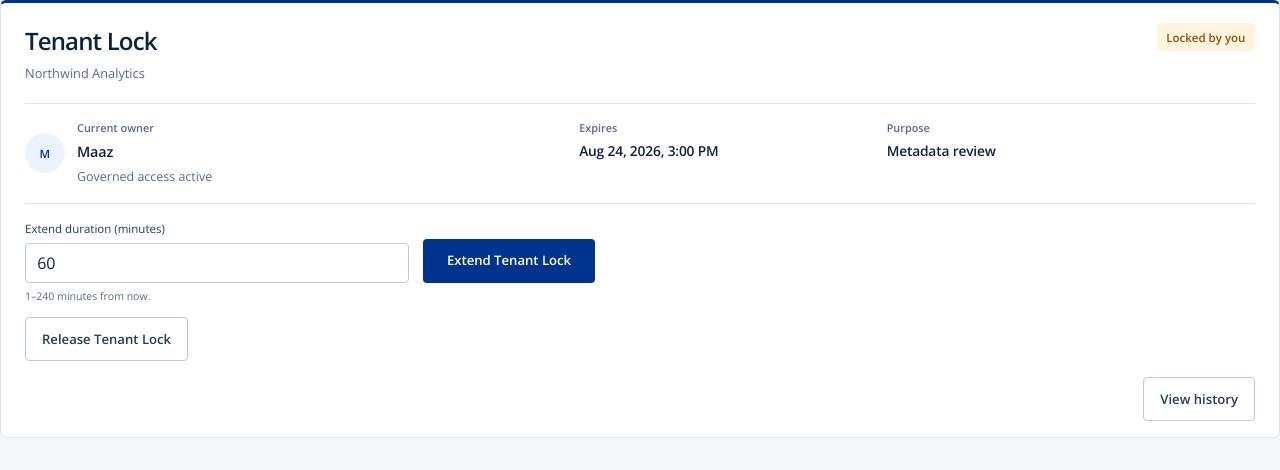
Scenario: Tenant Lock release › releases only after explicit confirmation and refetches server-owned state
expect the text "Locked by you" is shown: met, box [1157,23,1255,52]
Click the button "Release Tenant Lock" at [106, 339], box [25,317,188,361]
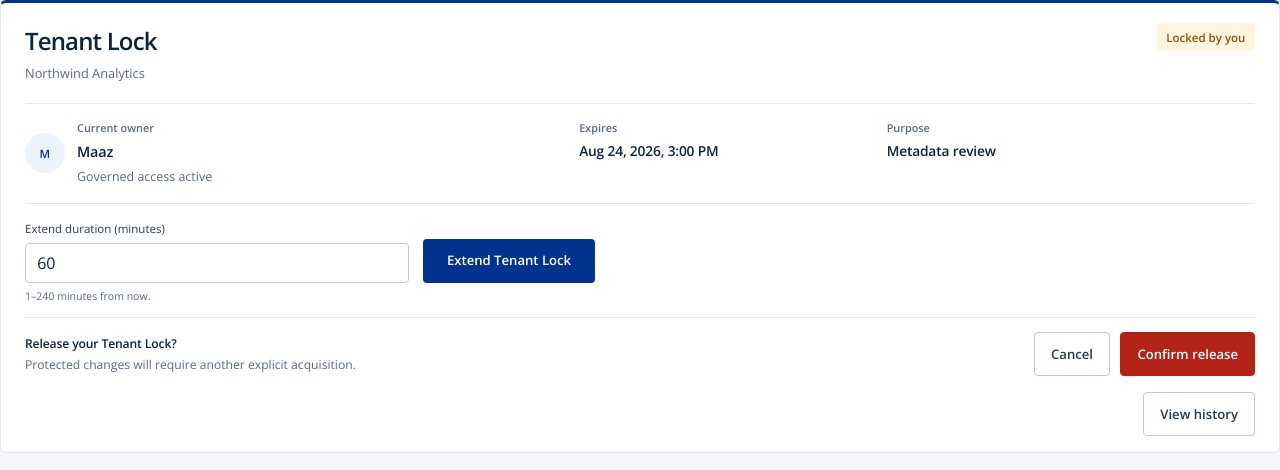
expect the element named "Confirm Tenant Lock release" is shown: met, box [25,317,1255,376]
Click the button "Confirm release" at [1188, 354], box [1120,332,1255,376]
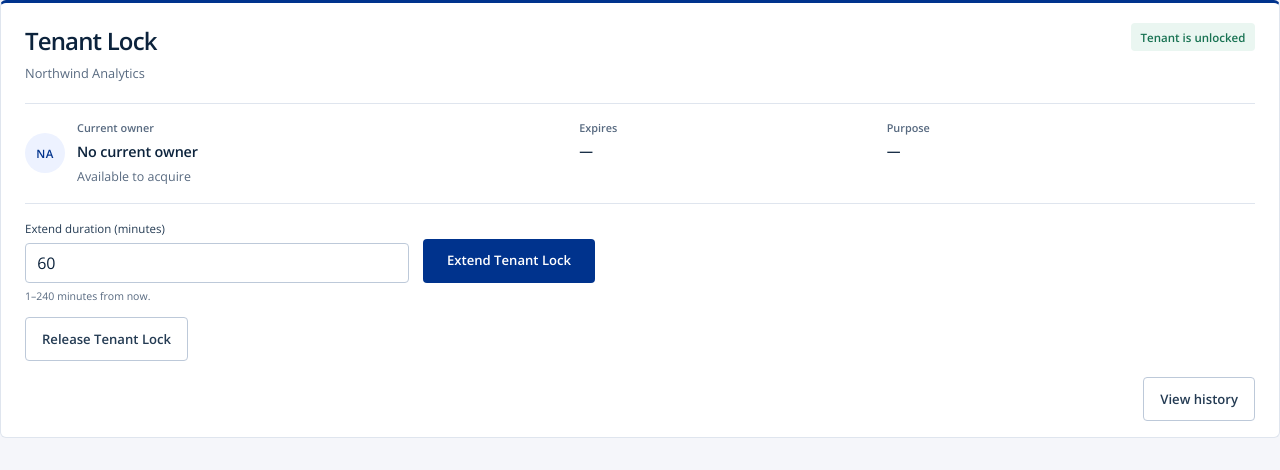
expect the text "Tenant is unlocked" is shown: met, box [1131,23,1255,52]
